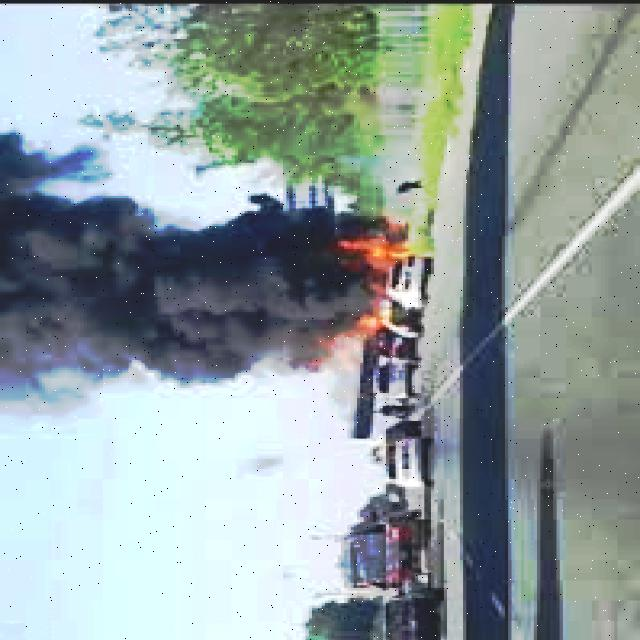api: (320, 219, 426, 373)
